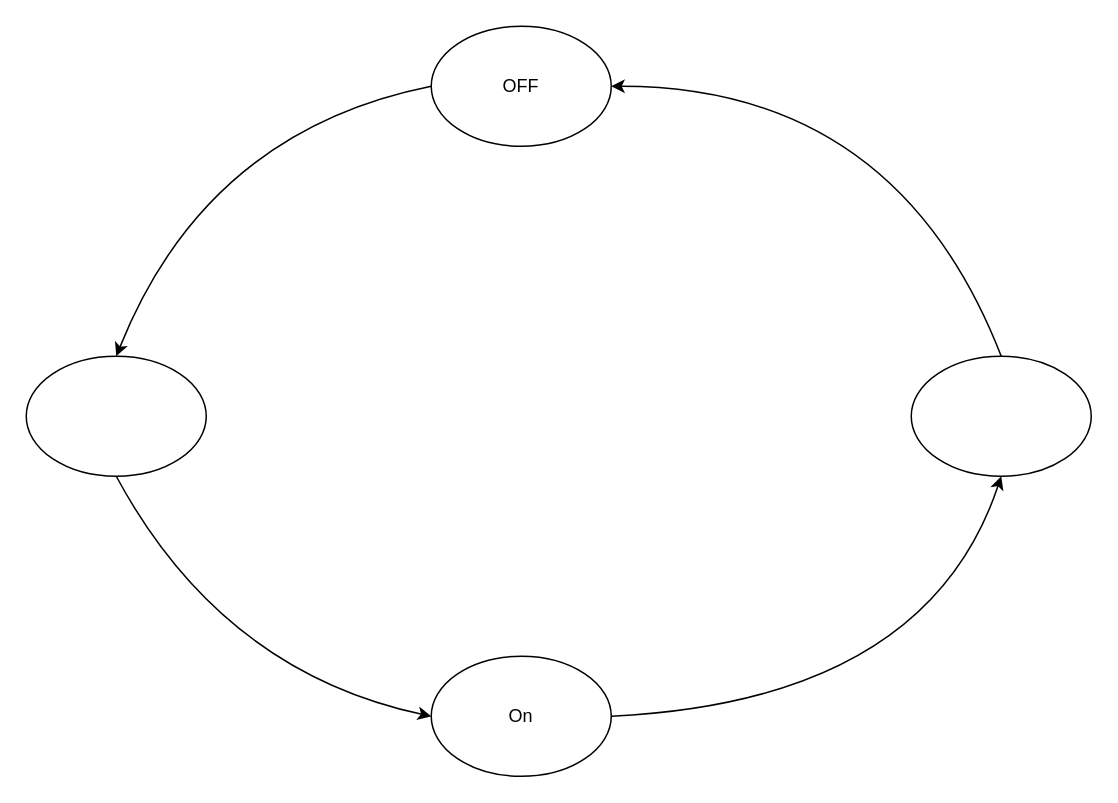
Image size: 1118x803. Some labels were removed from this diagram. The centre of each missing label's shape, as x and y in pixels:
Err: (x=1000, y=415)
Start: (x=115, y=415)
